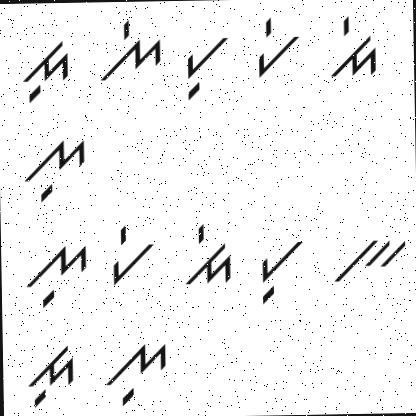de: (172, 216, 238, 293), (326, 11, 381, 84)
du: (13, 33, 78, 107), (24, 334, 78, 411)
ne: (94, 12, 164, 86)
nu: (19, 130, 92, 202), (22, 235, 90, 311), (100, 338, 172, 408)
pe: (245, 15, 304, 80), (103, 222, 160, 286)
pu: (247, 232, 306, 305), (177, 29, 230, 102)
